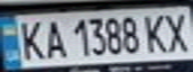1: (66, 16, 90, 57)
3: (84, 15, 106, 56)
8: (121, 12, 142, 55), (103, 13, 124, 55)
A: (39, 17, 69, 61)
K: (139, 10, 172, 55), (15, 17, 48, 62)
X: (160, 9, 193, 53)
